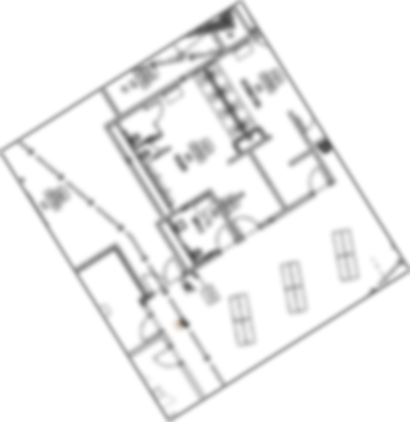door: (135, 312, 165, 345), (152, 341, 185, 371), (302, 164, 335, 194), (230, 212, 263, 240), (213, 222, 238, 253), (143, 97, 170, 124), (147, 132, 173, 152)
double door: (135, 255, 191, 298)
